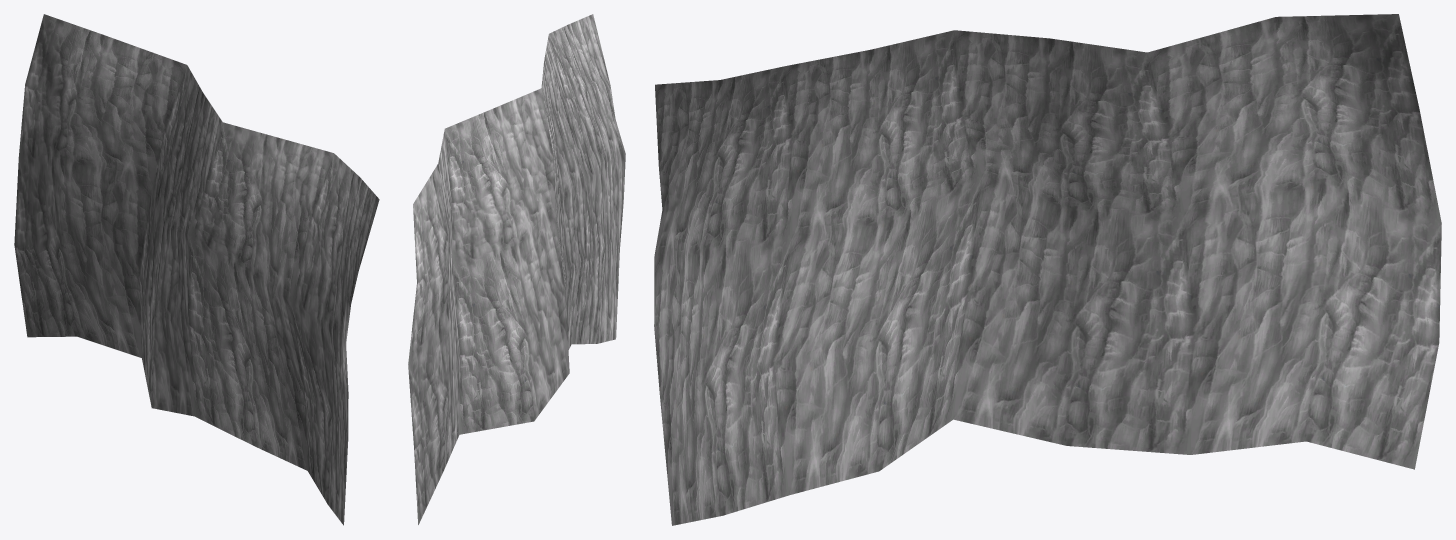
File: SWORDLIGHT20_PS-AREA03_186.fbx
The picture shows the model from 3 angles, left to right: view 1: azimuth 30°, elevation 25°; view 2: azimuth 150°, elevation 25°; view 3: azimuth 270°, elevation 25°; orthographic projection. The views are drawn at different scales.
Parts seen in each view (by area): view 1: SWORDLIGHT20_PS-AREA03_186; view 2: SWORDLIGHT20_PS-AREA03_186; view 3: SWORDLIGHT20_PS-AREA03_186.
Part boxes in pixels (box(x1,y1,x2,y2)): SWORDLIGHT20_PS-AREA03_186: box(14, 14, 379, 525); SWORDLIGHT20_PS-AREA03_186: box(408, 14, 625, 524); SWORDLIGHT20_PS-AREA03_186: box(654, 14, 1441, 525).
Size of the model in its own units: 52107 by 182518 by 266227.
1 material, 1 textured.
